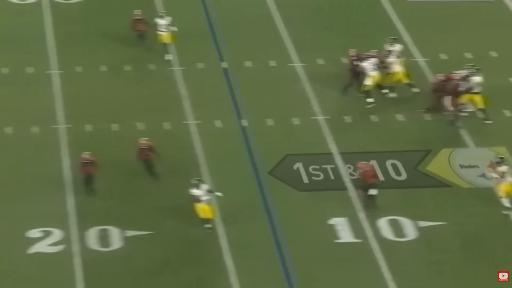Helmet: (191, 178, 203, 187), (495, 156, 505, 164), (464, 63, 476, 69), (368, 50, 378, 57), (134, 10, 142, 18), (436, 74, 445, 81), (81, 152, 91, 158), (387, 37, 397, 43), (357, 161, 365, 168), (139, 138, 149, 143), (159, 11, 166, 17), (349, 50, 357, 55)
Jersey: (189, 184, 211, 204), (357, 163, 379, 183), (488, 164, 511, 182), (360, 58, 379, 75), (386, 56, 405, 73), (80, 156, 97, 174), (138, 142, 155, 159), (384, 43, 403, 58), (155, 17, 171, 32), (469, 76, 483, 93), (132, 18, 148, 31), (349, 54, 361, 71)
Player: (459, 67, 492, 123), (189, 178, 222, 230), (360, 51, 388, 107), (385, 55, 419, 97), (488, 156, 511, 207), (423, 74, 451, 113), (155, 12, 177, 58), (342, 50, 363, 93), (357, 162, 379, 201), (138, 138, 158, 178), (80, 152, 97, 193), (131, 10, 148, 40), (384, 37, 403, 59)
